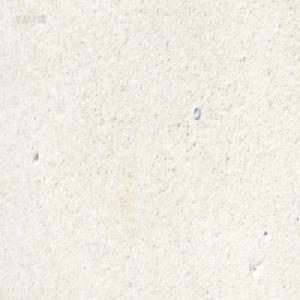Washer: (192, 105, 200, 120)
